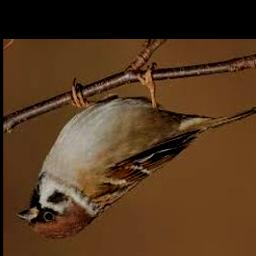Sparrow: (17, 63, 256, 240)
